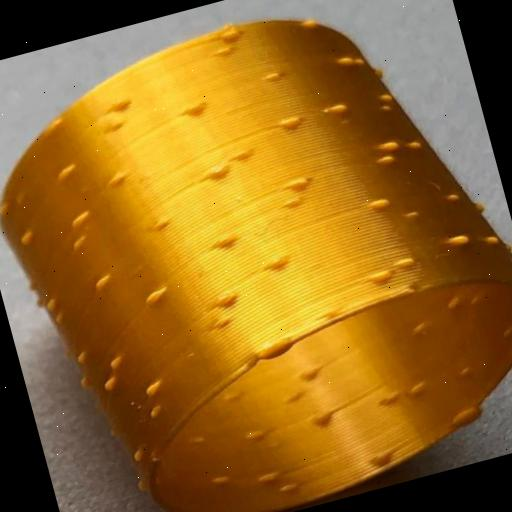blobs: (222, 138, 262, 174), (196, 158, 232, 190), (280, 171, 320, 197), (398, 374, 432, 404), (172, 94, 208, 122), (360, 264, 396, 292), (260, 249, 298, 275), (64, 200, 98, 229), (364, 444, 399, 472), (145, 280, 177, 310), (434, 226, 474, 250), (38, 112, 71, 140), (294, 360, 329, 386), (306, 401, 336, 431), (50, 162, 82, 190), (450, 402, 484, 428), (86, 270, 122, 294), (368, 89, 401, 115), (136, 376, 171, 400), (206, 228, 238, 254), (214, 384, 246, 410), (209, 289, 239, 316), (468, 230, 501, 254), (254, 64, 286, 88), (322, 96, 354, 120), (100, 168, 130, 193), (330, 48, 362, 71), (404, 315, 431, 341), (108, 92, 136, 117), (372, 386, 401, 410), (398, 135, 426, 159), (276, 112, 304, 136), (144, 213, 174, 235), (268, 479, 298, 501), (374, 134, 404, 155), (185, 428, 216, 448), (207, 466, 232, 490), (366, 192, 393, 214), (67, 230, 91, 254), (215, 27, 243, 47), (252, 468, 280, 488), (37, 292, 60, 316), (246, 424, 271, 446), (140, 404, 165, 426), (392, 251, 419, 271), (438, 294, 462, 316), (96, 373, 120, 395), (69, 348, 92, 370), (14, 226, 36, 248), (452, 363, 474, 384), (126, 444, 147, 465), (104, 354, 126, 374), (299, 15, 320, 34), (376, 151, 398, 168)
